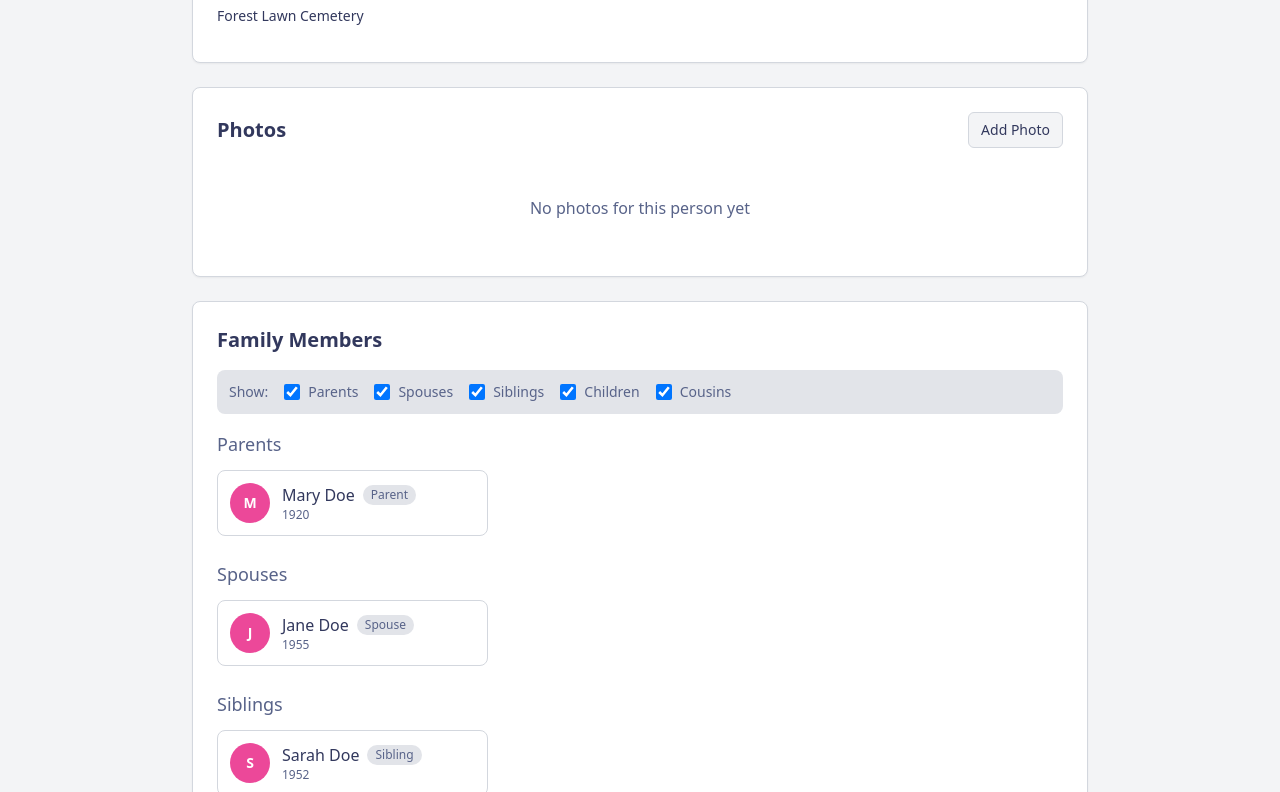
Test: PersonPage › relationship filter controls › should show relatives when filter is re-checked
(page scrolled)
Expected: the text "Sarah Doe" is shown, [282,743,360,767]
// Uncheck then re-check siblings filter
Click the checkbox labelled "Siblings" at [477, 392], box [469,384,485,400]
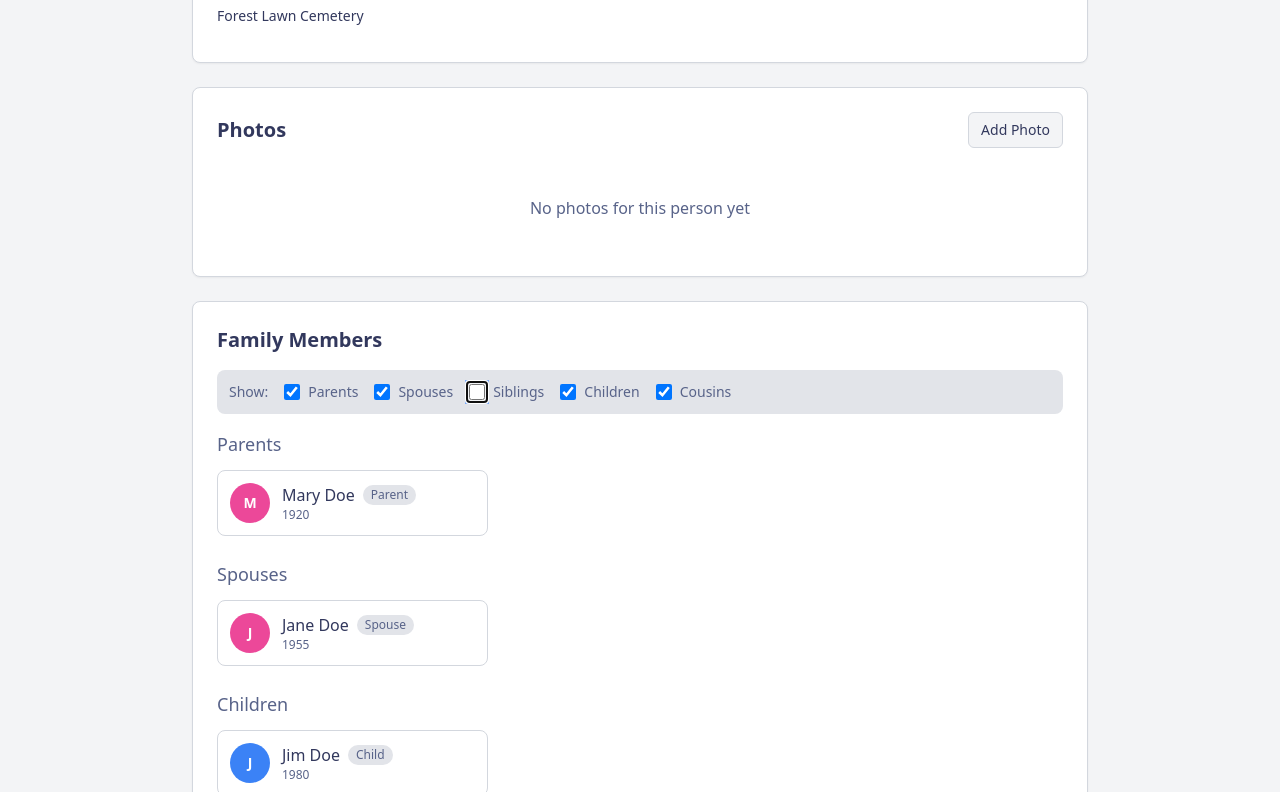
Now the link "Sarah Doe" is gone
Click the checkbox labelled "Siblings" at [477, 392], box [469,384,485,400]
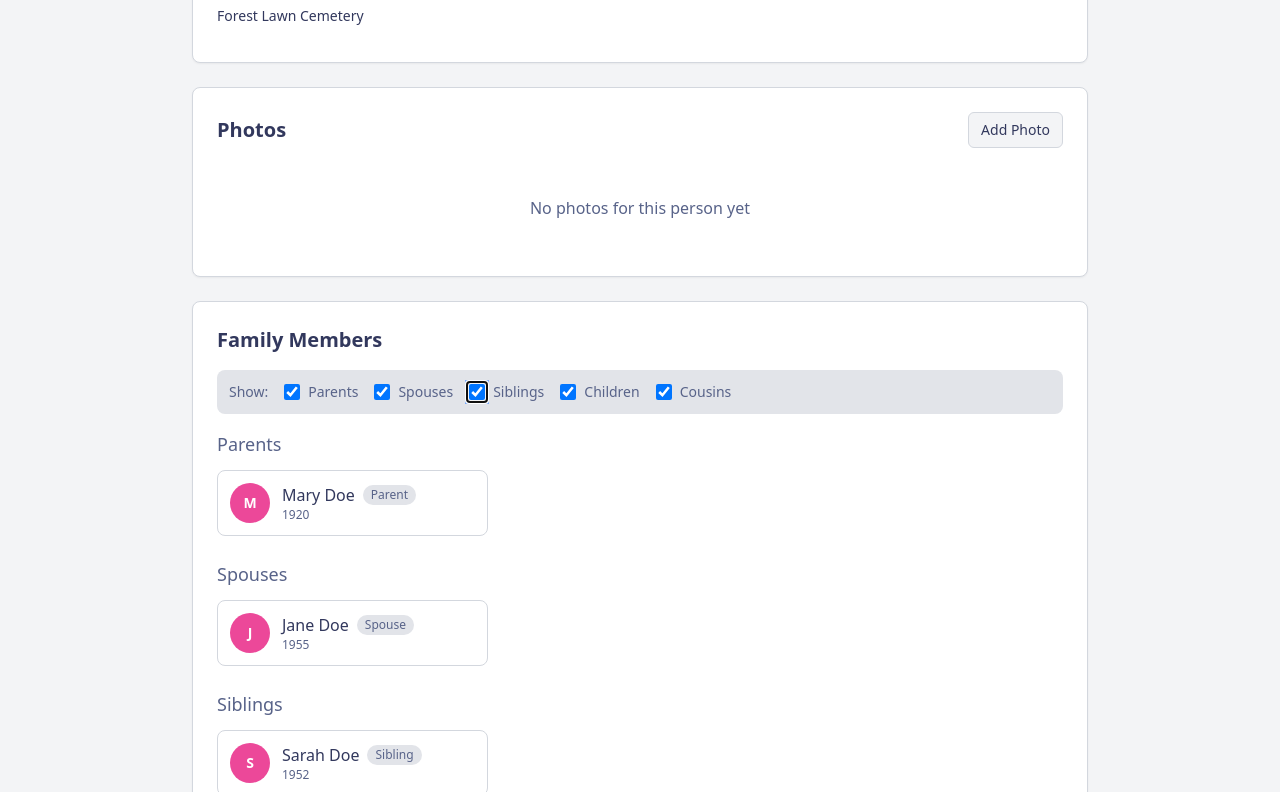
Now the text "Sarah Doe" is shown, box [282,743,360,767]
